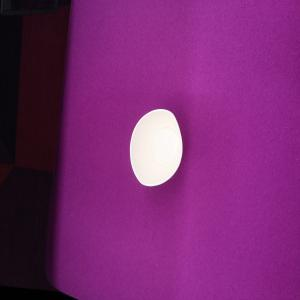Cup: (131, 109, 185, 188)
